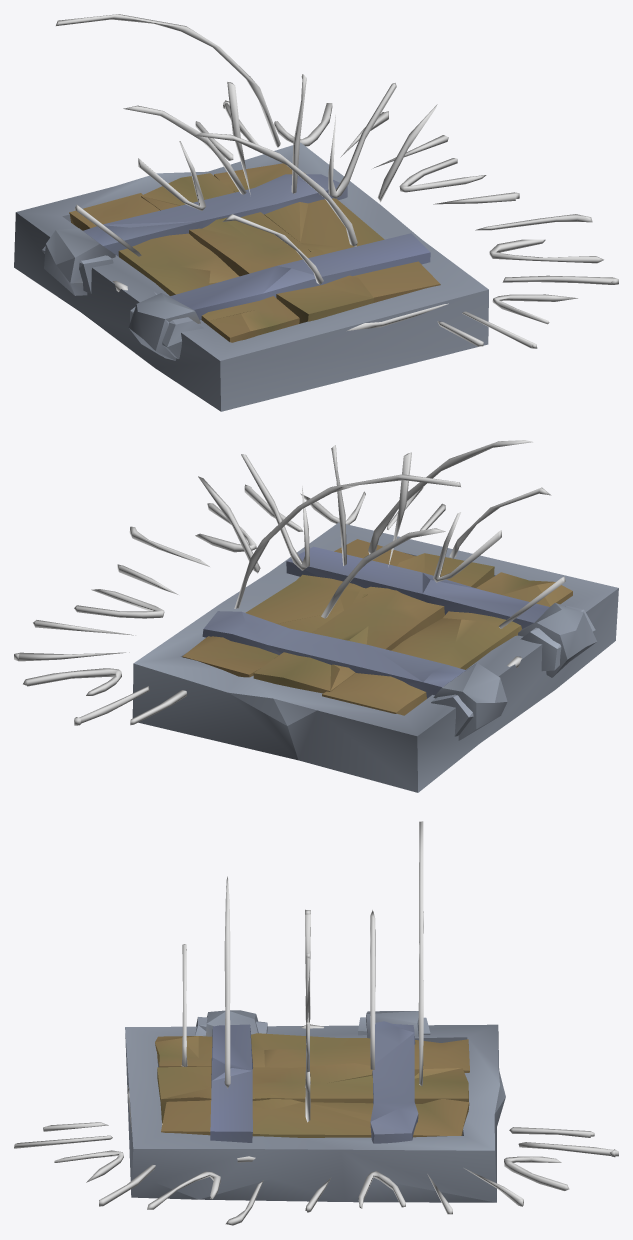
The model's file is Hatch01.fbx.
The picture shows the model from 3 angles, top to bottom: view 1: azimuth 30°, elevation 25°; view 2: azimuth 150°, elevation 25°; view 3: azimuth 270°, elevation 25°; orthographic projection. The views are drawn at different scales.
Visible parts, largest first — view 1: HatchDoor01, HatchFrame01, LinesSlam01, LinesSwing01, LinesImpact01; view 2: HatchDoor01, HatchFrame01, LinesSlam01, LinesSwing01, LinesImpact01; view 3: HatchDoor01, HatchFrame01, LinesSlam01, LinesSwing01, LinesImpact01.
Part boxes in pixels (box(x1,y1,x2,y2)): HatchDoor01: box(44, 163, 440, 360); HatchFrame01: box(14, 142, 488, 411); LinesSlam01: box(195, 100, 618, 348); LinesSwing01: box(56, 14, 357, 284); LinesImpact01: box(74, 74, 437, 256); HatchDoor01: box(182, 539, 596, 740); HatchFrame01: box(132, 522, 618, 792); LinesSlam01: box(14, 484, 445, 725); LinesSwing01: box(234, 440, 551, 618); LinesImpact01: box(198, 445, 565, 628); HatchDoor01: box(155, 1010, 469, 1143); HatchFrame01: box(125, 1017, 505, 1202); LinesSlam01: box(14, 1122, 618, 1225); LinesSwing01: box(181, 821, 423, 1088); LinesImpact01: box(305, 909, 310, 1122).
Size of the model in its own units: 162 by 91.12 by 195.
